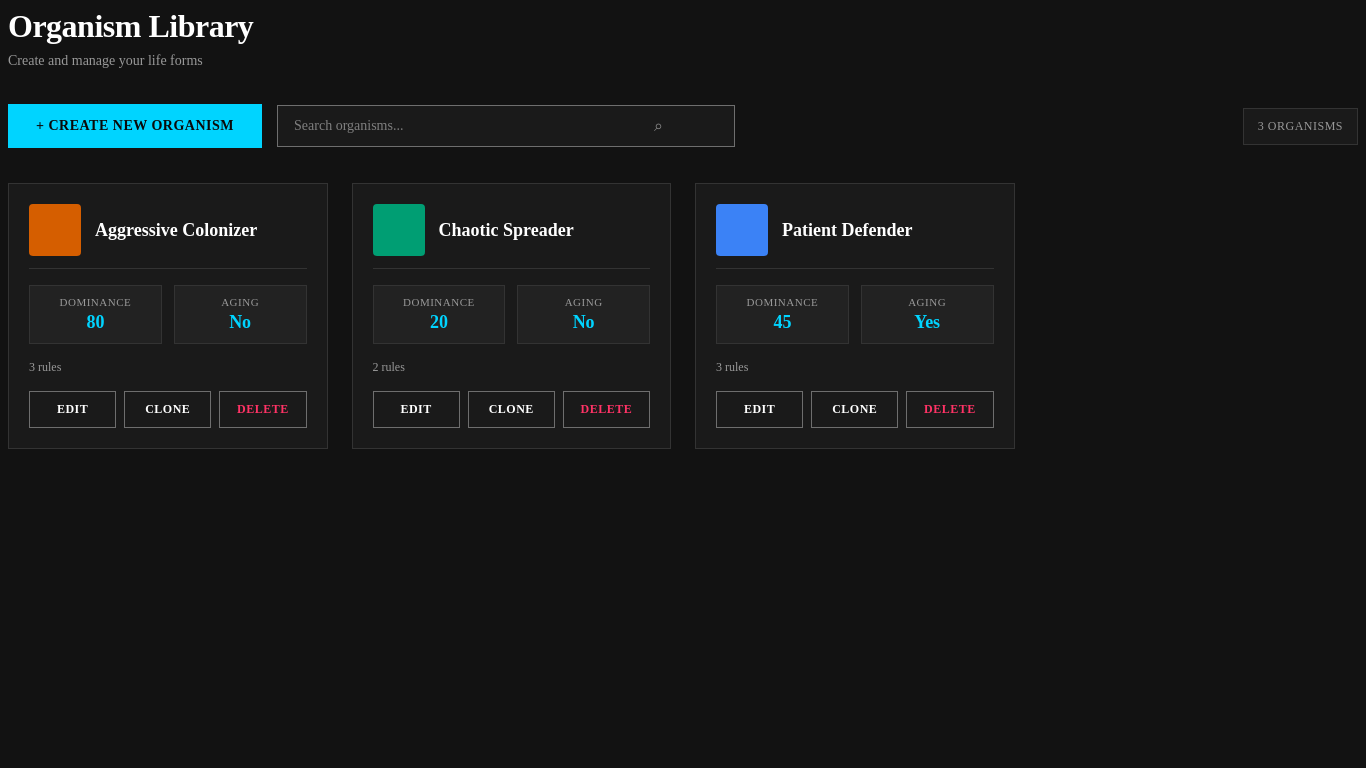
it: OrganismLibrary — editor modal shell (Story 4.3) › opens the editor as a labelled dialog when the create button is clicked
Expected: the number of list items is 3, x1=8 y1=183 x2=328 y2=449; x1=352 y1=183 x2=671 y2=449; x1=695 y1=183 x2=1014 y2=449
Click the button "+ Create New Organism": click(135, 126) x1=8 y1=104 x2=262 y2=148
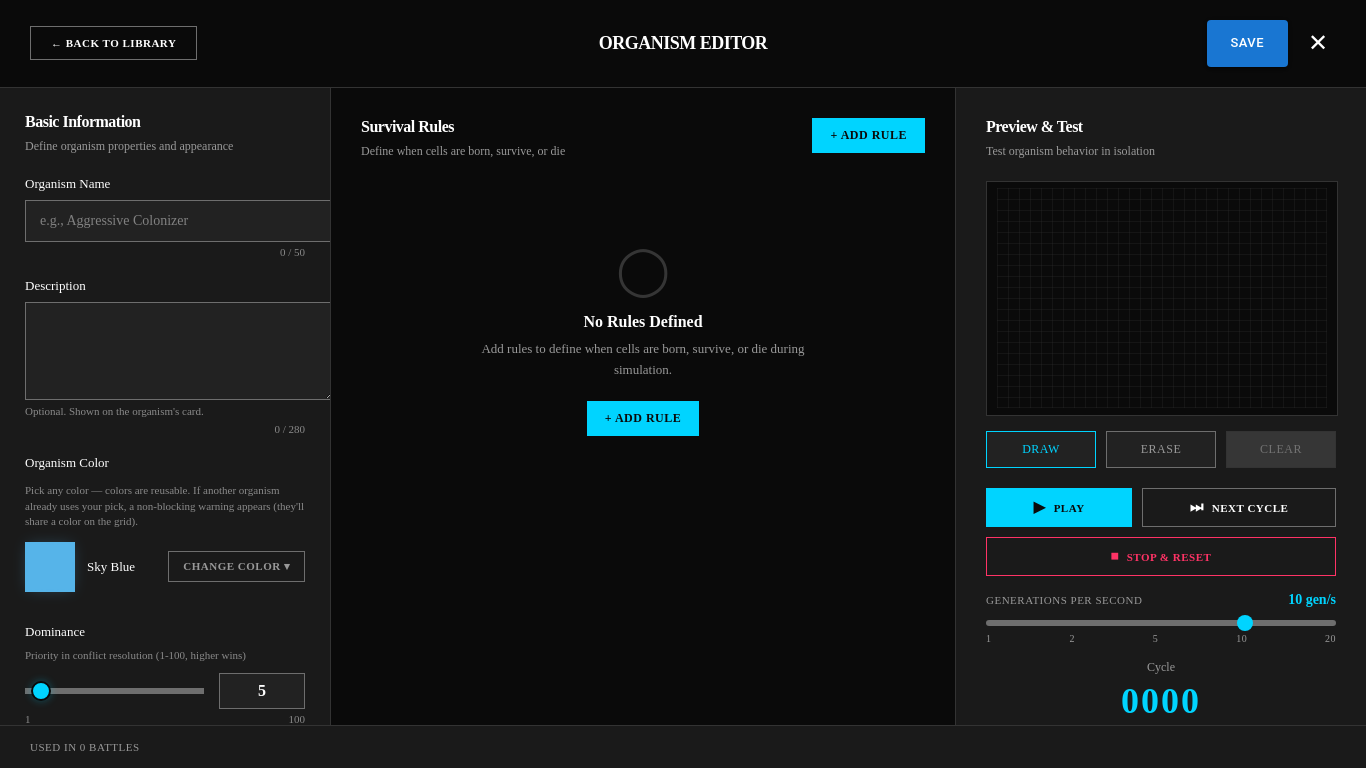
Expected: the dialog named "Organism Editor" is shown
Expected: the button "← Back to Library" is shown, x1=30 y1=26 x2=197 y2=60
Expected: the button "Save" is enabled, x1=1207 y1=20 x2=1288 y2=67
